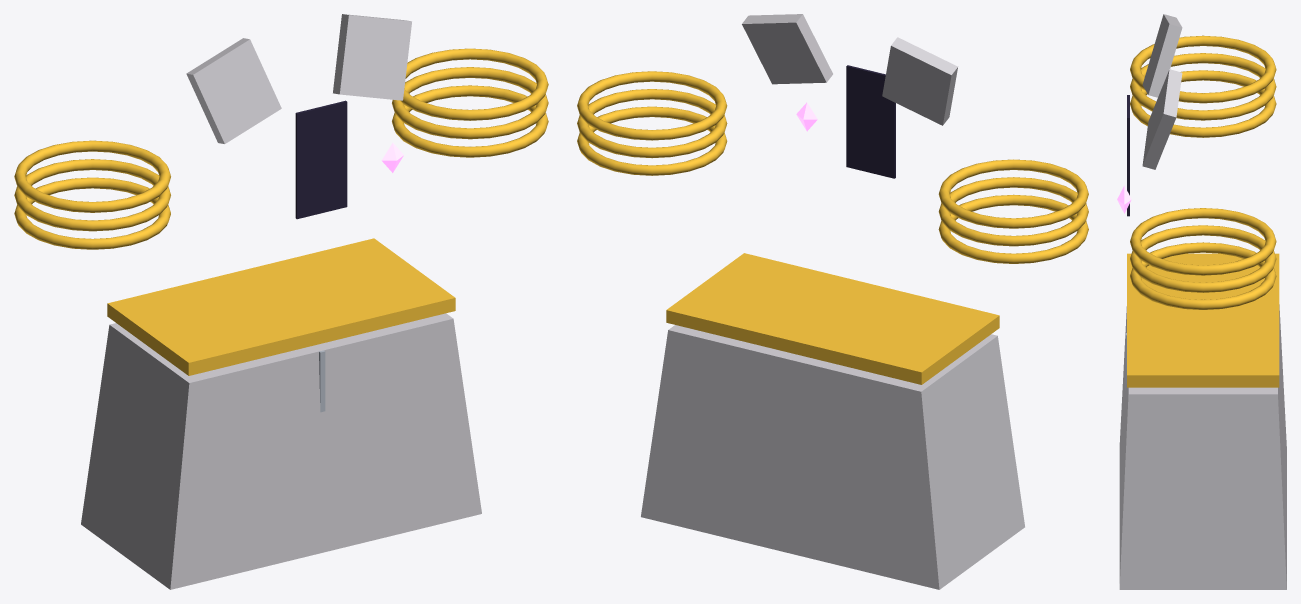
File: eqf_eqgw4.glb
3 renders of one model, left to right at view 1: azimuth 30°, elevation 25°; view 2: azimuth 150°, elevation 25°; view 3: azimuth 270°, elevation 25°, orthographic. The views are drawn at different scales.
Size of the model in its own units: 4.08 by 3.84 by 1.25.
